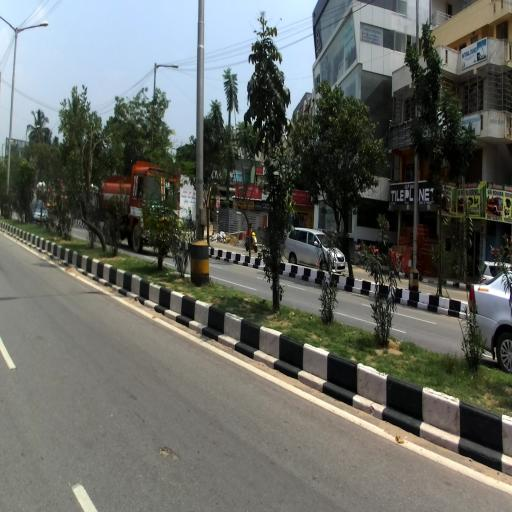street_light_0: (14, 22, 48, 38), (154, 63, 180, 70), (26, 124, 40, 134)
